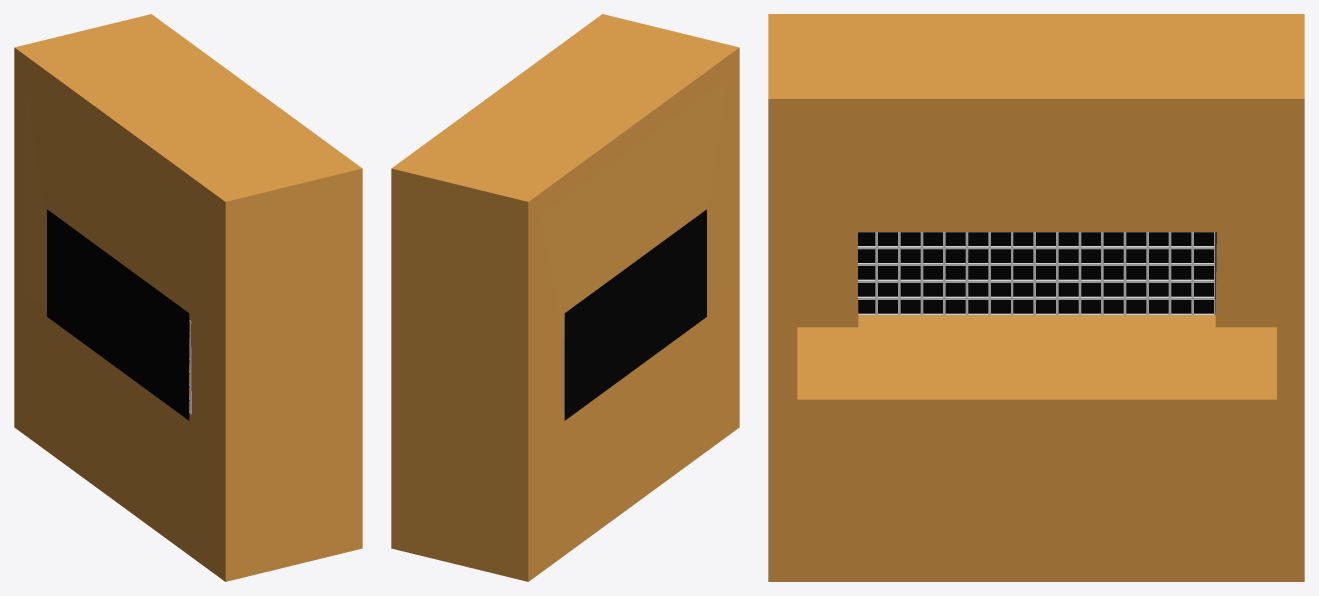
File: selling.fbx
3 renders of one model, left to right at view 1: azimuth 30°, elevation 25°; view 2: azimuth 150°, elevation 25°; view 3: azimuth 270°, elevation 25°, orthographic. The views are drawn at different scales.
Visible parts, largest first — view 1: Cube, Cube.002; view 2: Cube, Cube.002; view 3: Cube, Cube.002, Cube.001.
Boxes of the visible parts, x1,y1,x2,y2 form: Cube: (14, 14, 362, 581); Cube.002: (47, 209, 189, 420); Cube: (391, 14, 739, 581); Cube.002: (564, 209, 706, 420); Cube: (768, 14, 1304, 581); Cube.002: (858, 232, 1216, 314); Cube.001: (858, 232, 1215, 315).
Bounding box in the file's own units: 203 × 530 × 533.
